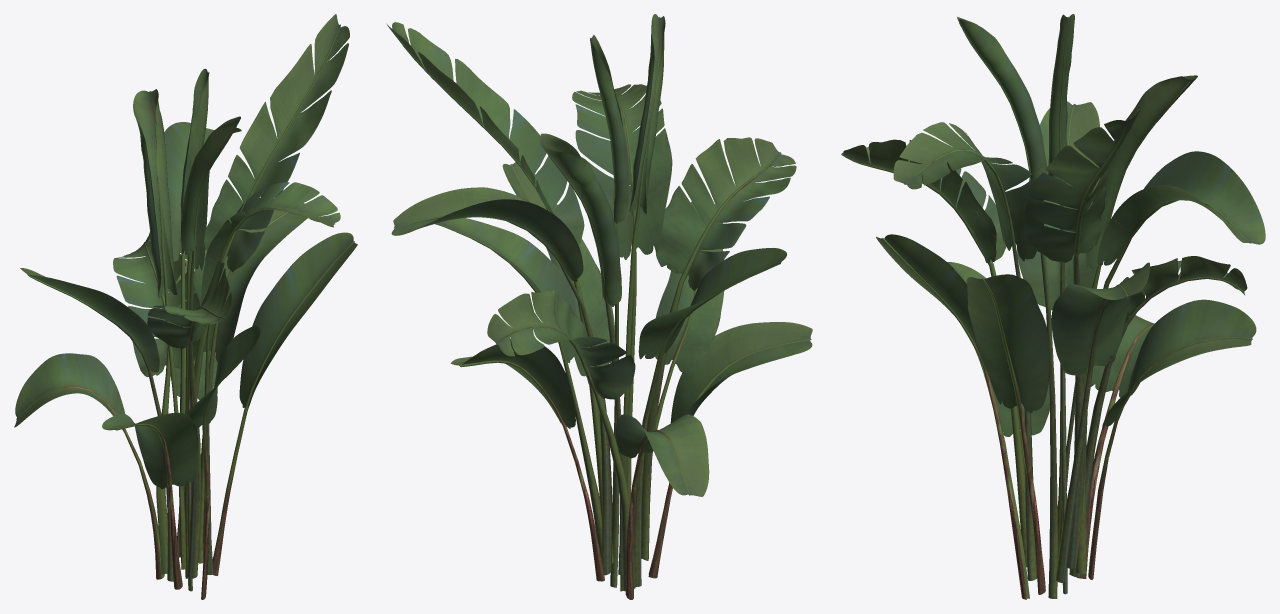
Rendered from Banana leaf.fbx.
The picture shows the model from 3 angles, left to right: view 1: azimuth 30°, elevation 25°; view 2: azimuth 150°, elevation 25°; view 3: azimuth 270°, elevation 25°; orthographic projection. The views are drawn at different scales.
Visible parts, largest first — view 1: Banana leaf; view 2: Banana leaf; view 3: Banana leaf.
Part boxes in pixels (x1=…): Banana leaf: x1=14, y1=14, x2=357, y2=599; Banana leaf: x1=386, y1=14, x2=812, y2=599; Banana leaf: x1=841, y1=14, x2=1265, y2=599.
Bounding box in the file's own units: 1281 × 1838 × 1183.
